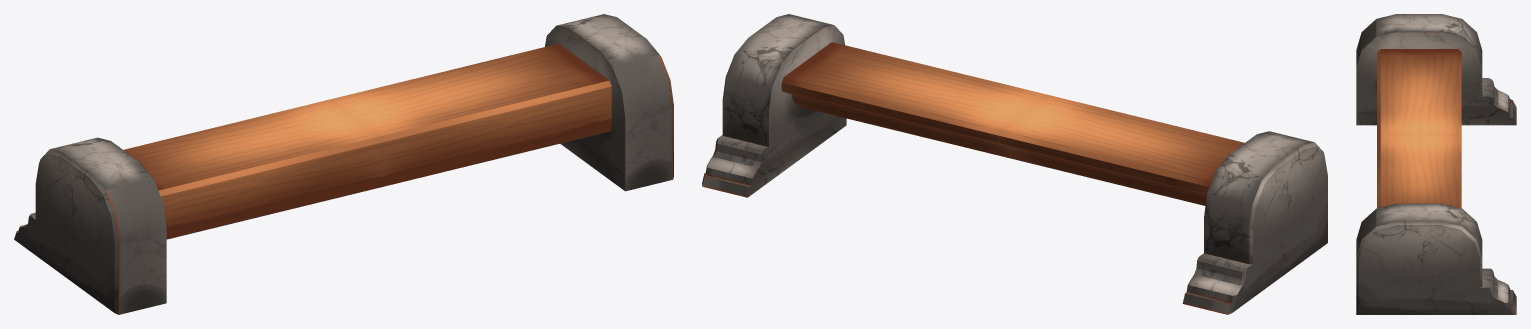
File: Banc.fbx
3 renders of one model, left to right at view 1: azimuth 30°, elevation 25°; view 2: azimuth 150°, elevation 25°; view 3: azimuth 270°, elevation 25°, orthographic. The views are drawn at different scales.
Visible parts, largest first — view 1: Banc; view 2: Banc; view 3: Banc.
Part boxes in pixels (x1,y1,x2,y2): Banc: (14,14,673,314); Banc: (702,14,1327,314); Banc: (1356,14,1516,314).
Size of the model in its own units: 5852 by 1216 by 1895.
Materials: 1 (1 with a texture image).
